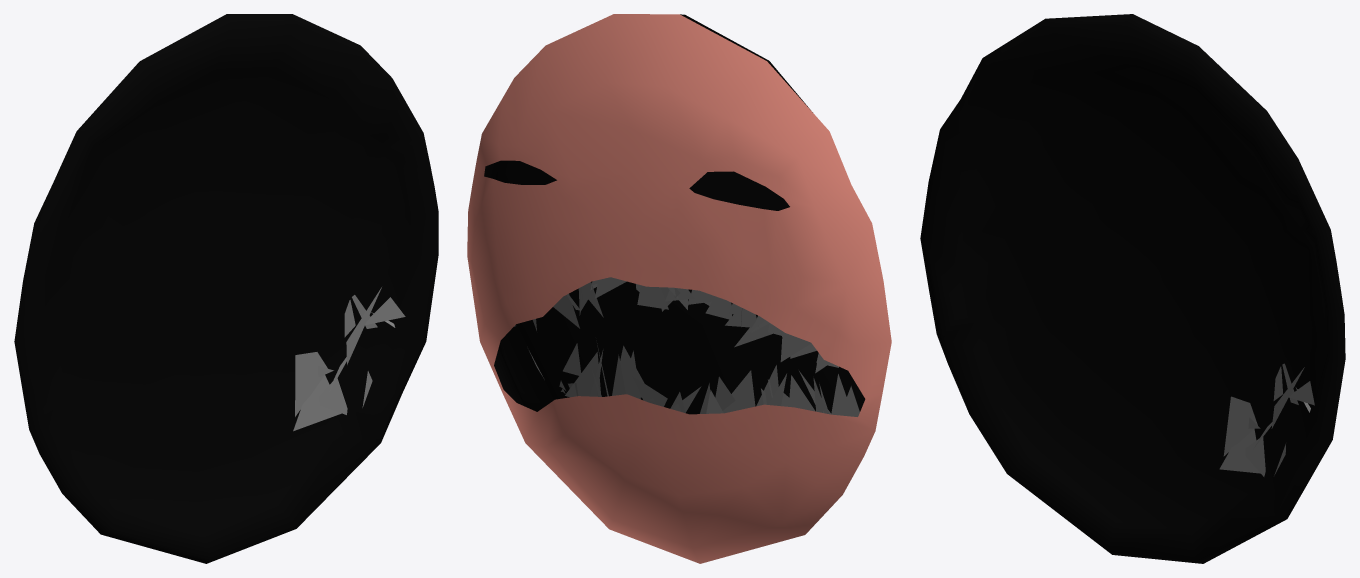
The model's file is Mask_06.fbx.
3 views of the same model, side by side, from view 1: azimuth 30°, elevation 25°; view 2: azimuth 150°, elevation 25°; view 3: azimuth 330°, elevation 25° (orthographic).
Visible parts, largest first — view 1: Masks_06; view 2: Masks_06; view 3: Masks_06.
Boxes of the visible parts, x1,y1,x2,y2 form: Masks_06: (14, 14, 438, 563); Masks_06: (467, 14, 891, 563); Masks_06: (920, 14, 1345, 563).
Size of the model in its own units: 38.45 by 47.17 by 4.86.
